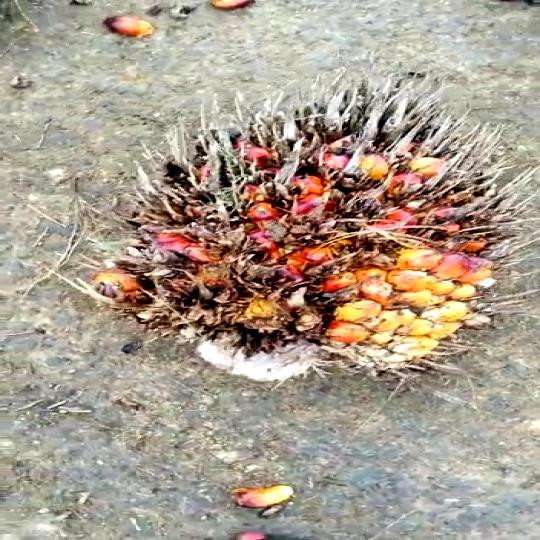terlalu masak: (91, 75, 514, 391)
